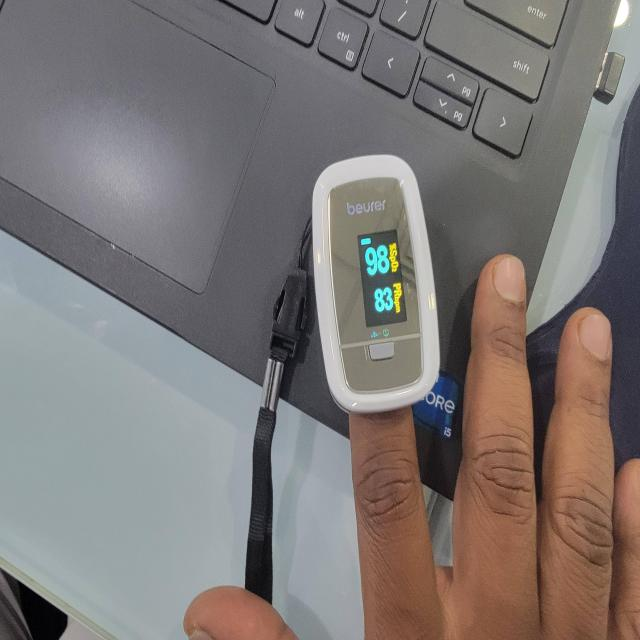spo2: (312, 158, 440, 415)
